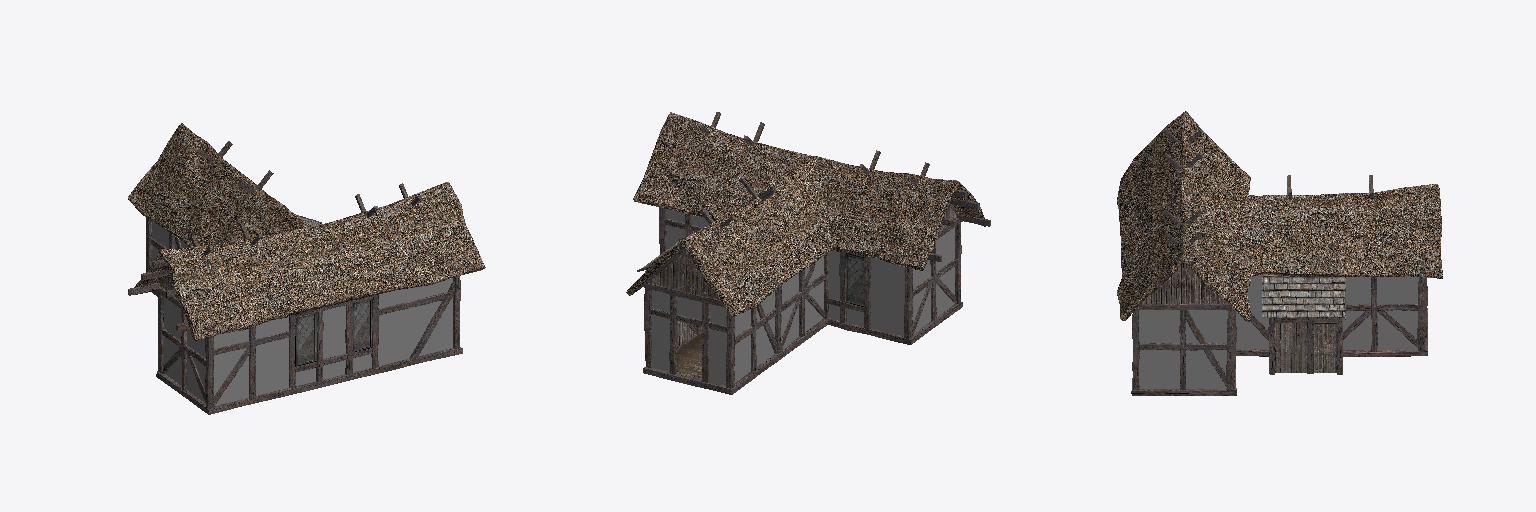
The picture shows the model from 3 angles: view 1: azimuth 30°, elevation 25°; view 2: azimuth 150°, elevation 25°; view 3: azimuth 270°, elevation 25°; orthographic projection.
Parts seen in each view (by area): view 1: p3d_medieval_enterable_bld_13; view 2: p3d_medieval_enterable_bld_13; view 3: p3d_medieval_enterable_bld_13.
Part boxes in pixels (x1,y1,x2,y2): p3d_medieval_enterable_bld_13: (128, 123, 485, 414); p3d_medieval_enterable_bld_13: (626, 112, 990, 394); p3d_medieval_enterable_bld_13: (1117, 111, 1442, 395).
Size of the model in its own units: 1156 by 562 by 1087.
Materials: 7 (6 with a texture image).